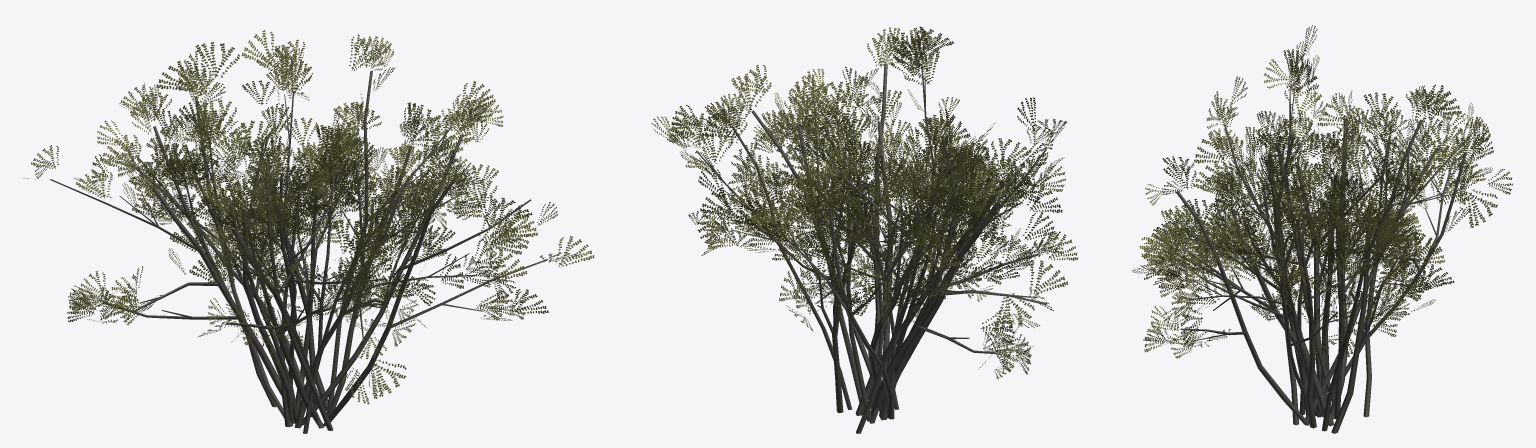
The model's file is creosote_b.glb.
The picture shows the model from 3 angles, left to right: view 1: azimuth 30°, elevation 25°; view 2: azimuth 150°, elevation 25°; view 3: azimuth 270°, elevation 25°; orthographic projection. The views are drawn at different scales.
Visible parts, largest first — view 1: creosote_b; view 2: creosote_b; view 3: creosote_b.
Part boxes in pixels (x1,y1,x2,y2): creosote_b: (23,30,594,433); creosote_b: (651,26,1078,433); creosote_b: (1132,25,1512,433).
Size of the model in its own units: 1.5 by 1.42 by 1.35.
2 materials, 1 textured.
